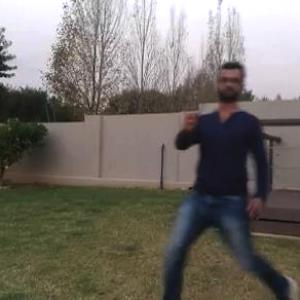takeoff-hand: (177, 100, 203, 134)
